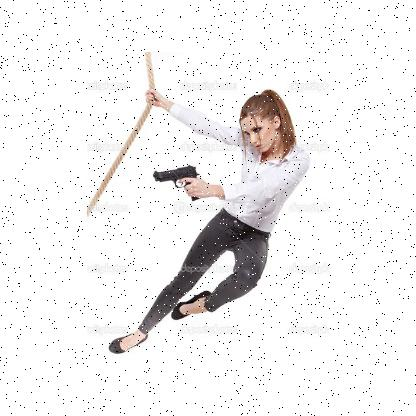gun: (152, 164, 200, 202)
